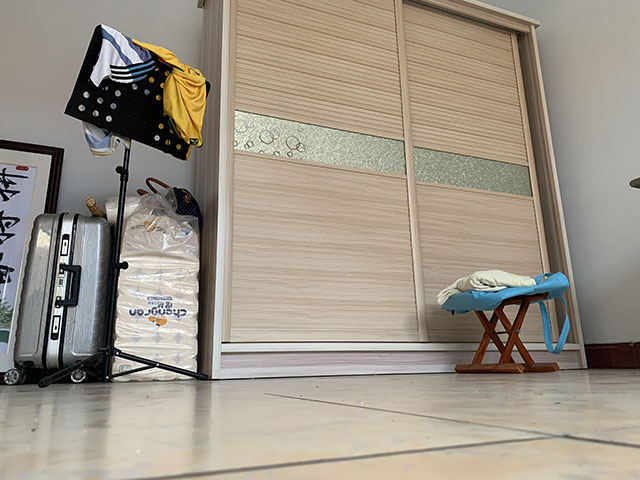cabinet: (192, 1, 590, 381)
stool: (454, 291, 561, 375)
